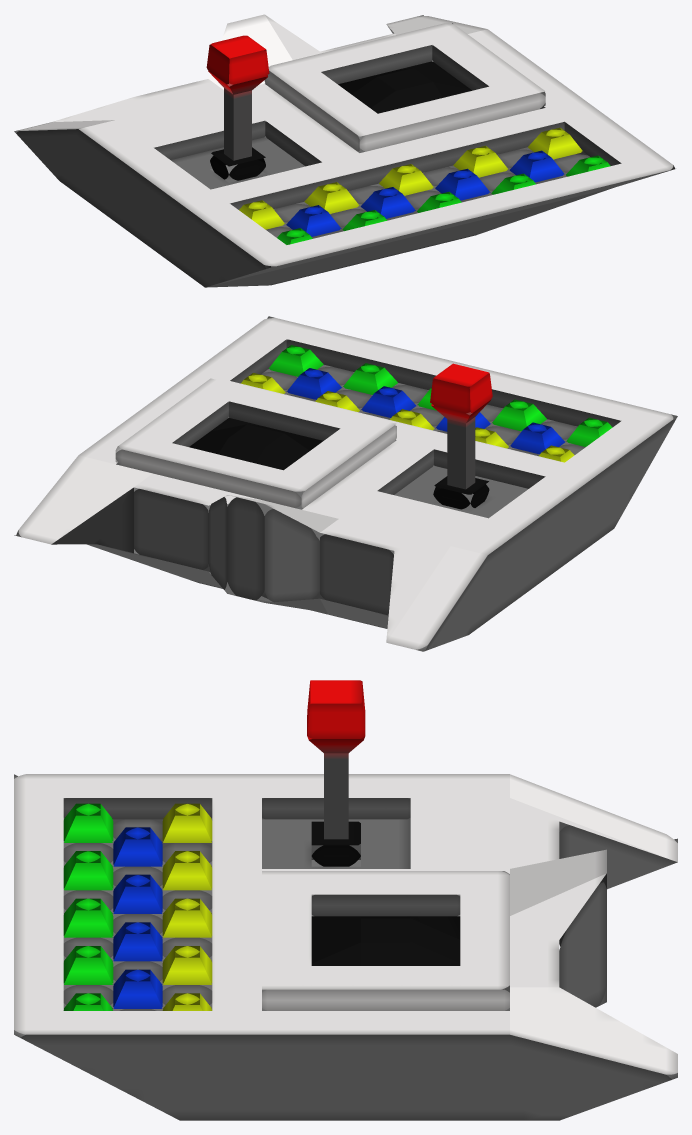
3 renders of one model, top to bottom at view 1: azimuth 30°, elevation 25°; view 2: azimuth 150°, elevation 25°; view 3: azimuth 270°, elevation 25°, orthographic. The views are drawn at different scales.
Parts seen in each view (by area): view 1: mesh; view 2: mesh; view 3: mesh.
Part boxes in pixels (left/top/right/bottom): mesh: left=14, top=14, right=675, bottom=287; mesh: left=14, top=316, right=677, bottom=651; mesh: left=14, top=680, right=677, bottom=1120.
Size of the model in its own units: 162 by 84.86 by 175.
1 material, 1 textured.
